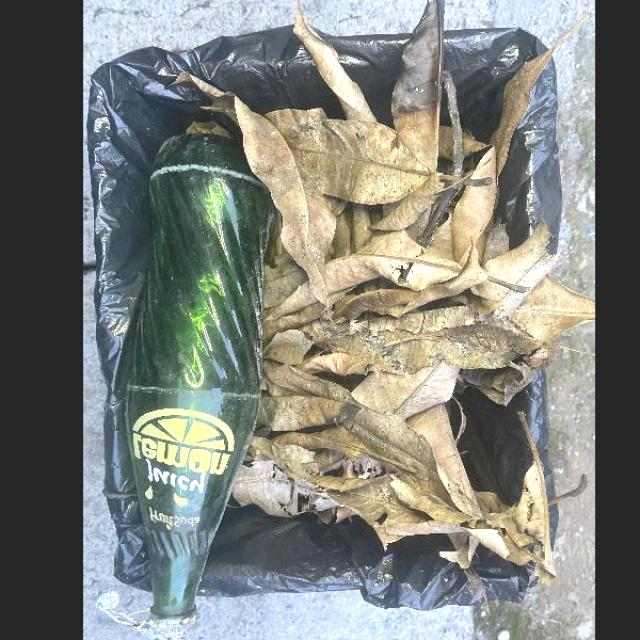chai_thuy_tinh: (125, 136, 277, 629)
la_cay: (316, 403, 556, 585), (175, 69, 331, 313), (453, 16, 586, 265), (301, 275, 595, 378), (267, 242, 490, 366), (345, 361, 459, 504), (269, 108, 431, 204), (251, 425, 407, 493), (291, 0, 378, 121), (320, 232, 460, 307), (391, 0, 443, 173), (475, 219, 562, 319), (257, 363, 361, 430), (232, 459, 333, 517), (258, 251, 325, 337), (298, 166, 339, 282), (457, 356, 535, 408), (256, 394, 360, 431), (373, 174, 440, 231)
